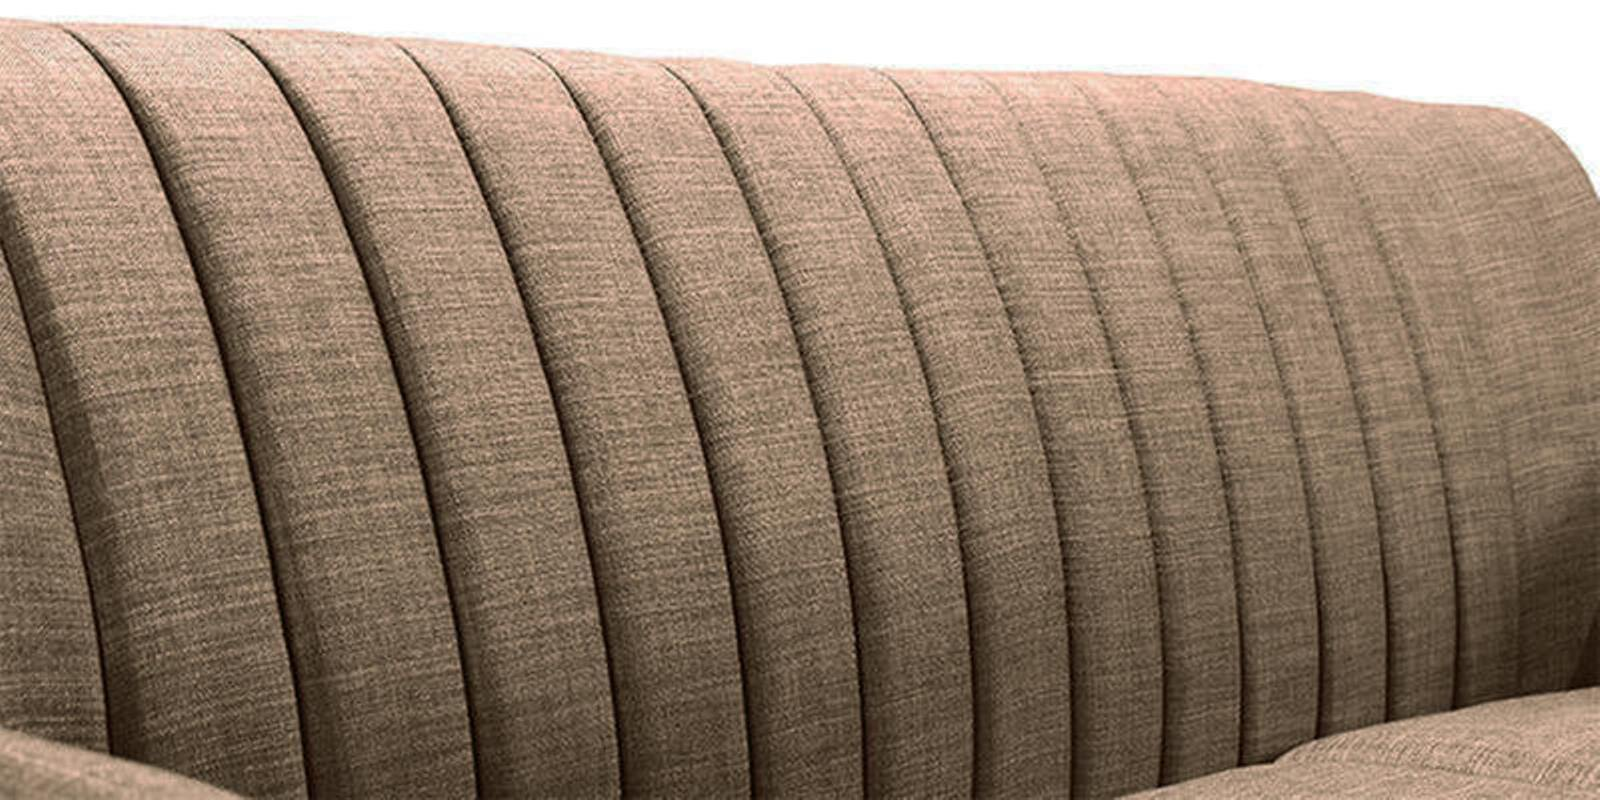Managua Three Seater Sofa in Coyote Colour by CasaCraft: (1, 24, 1600, 800)
